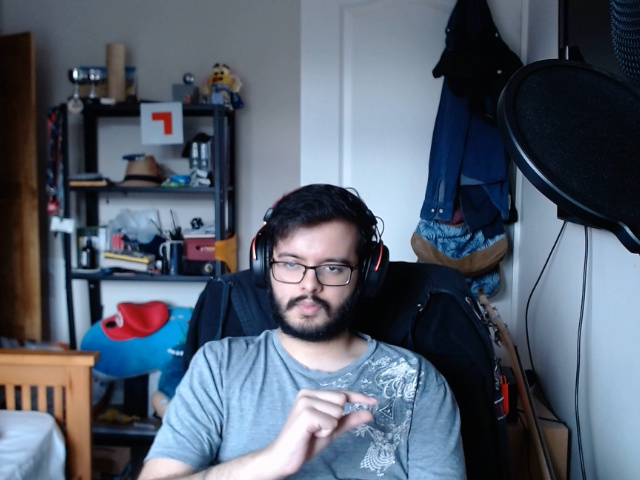Small: (272, 382, 382, 467)
